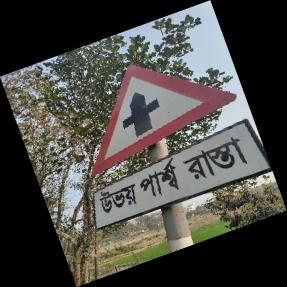Crossroad: (88, 63, 273, 231)
